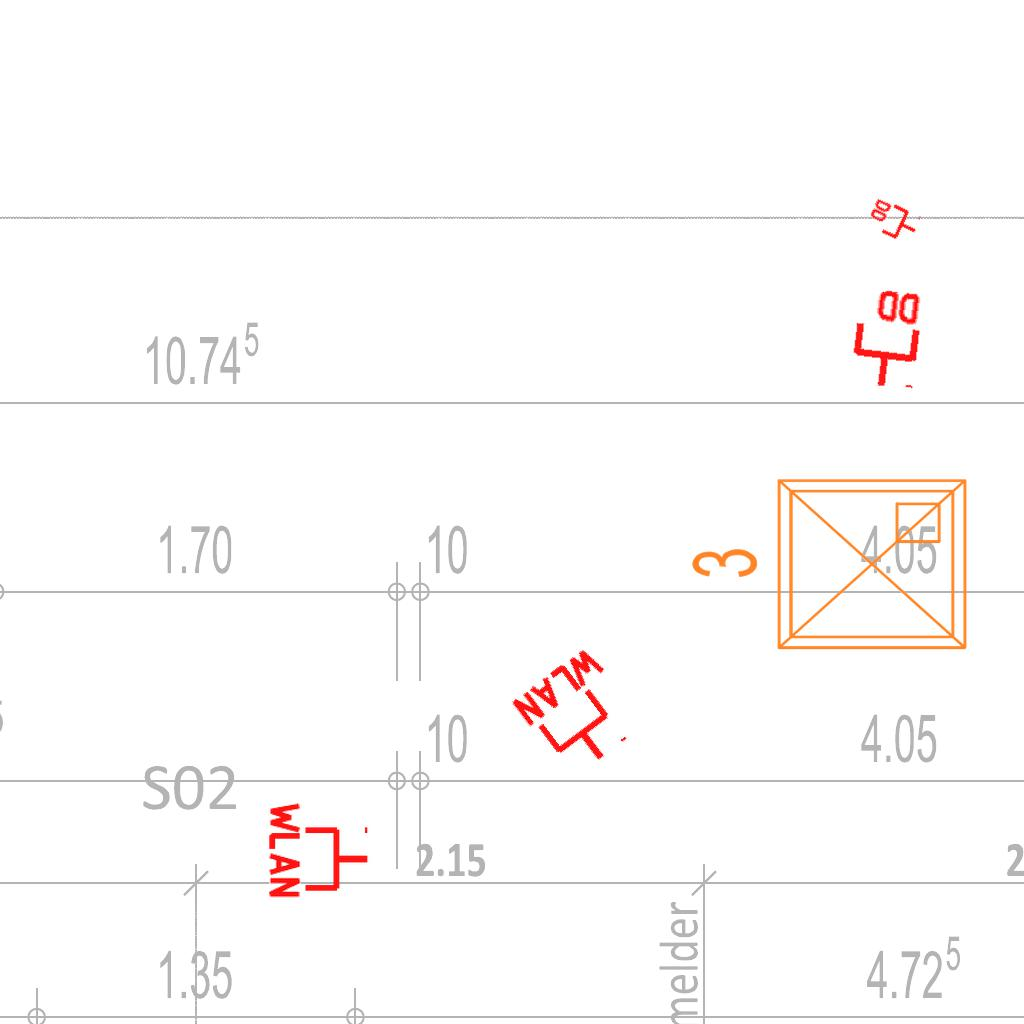Datenanschluss_zweifach: (844, 282, 927, 393), (862, 195, 924, 248)
Einbaudownlights_LED_Konferenzraeume: (681, 464, 981, 672)
WLAN: (506, 640, 653, 788), (267, 798, 372, 902)
